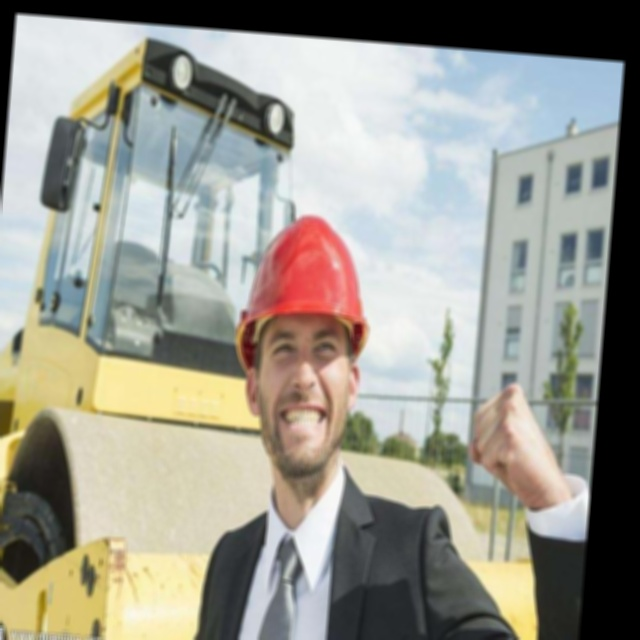Con_Casco: (231, 208, 379, 484)
